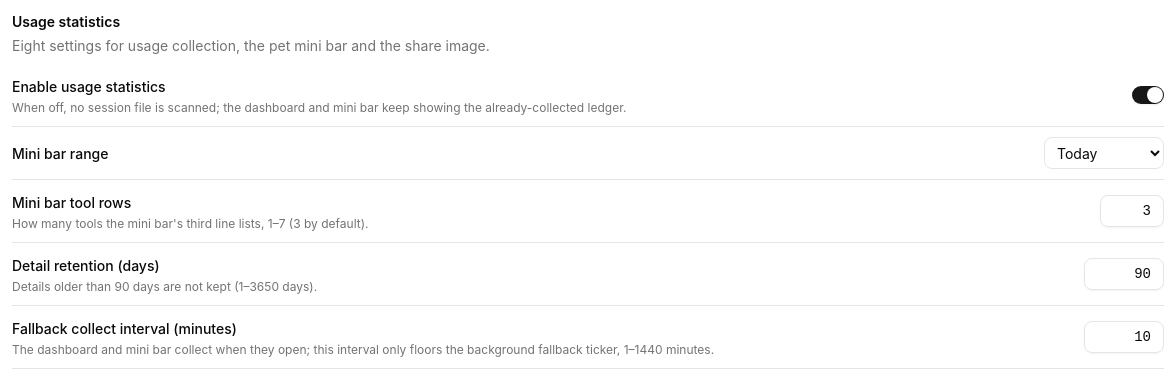
Test: 设置页「用量统计」分组（计划② Task 14） › 4. 条数夹取：99 → 7、0 → 1（上下界都夹，且只发夹取后的值）
Replace the text in the field with test id "usage-minibar-tool-rows" with "99" at (1132, 211), box [1100,195,1164,227]
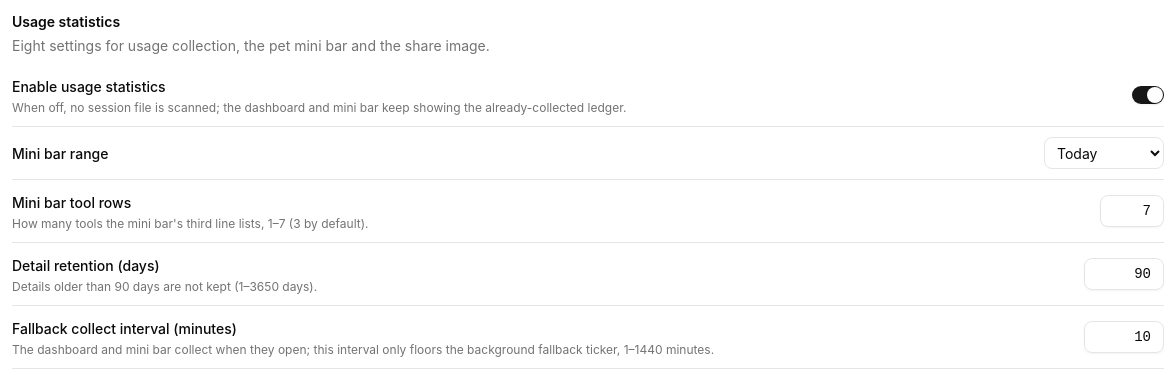
Check: the field with test id "usage-minibar-tool-rows" holds "7"
Replace the text in the field with test id "usage-minibar-tool-rows" with "0" at (1132, 211), box [1100,195,1164,227]
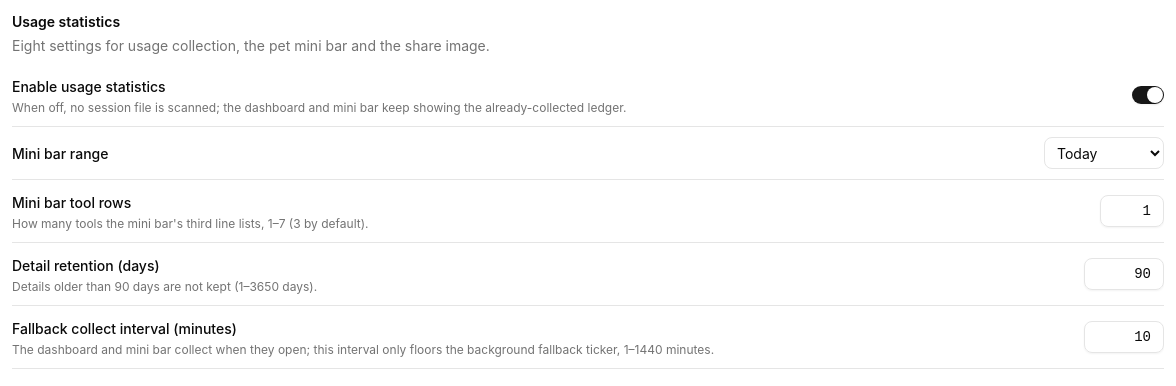
Check: the field with test id "usage-minibar-tool-rows" holds "1", box [1100,195,1164,227]
